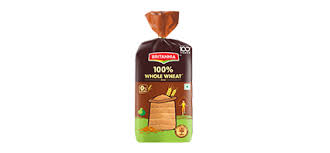bread: (124, 12, 196, 147)
